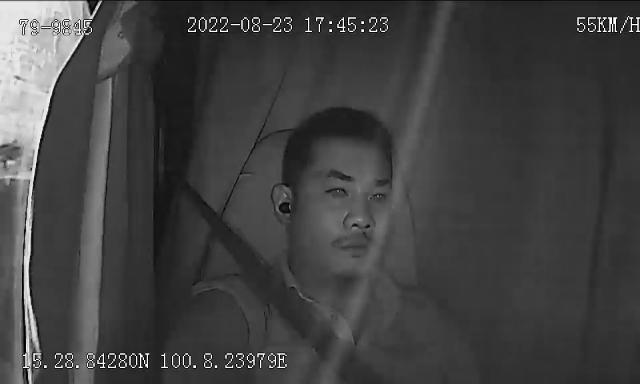SafeDriving: (266, 186, 301, 224), (321, 175, 354, 204), (364, 181, 394, 207)
Seatbelt: (209, 207, 337, 365)
